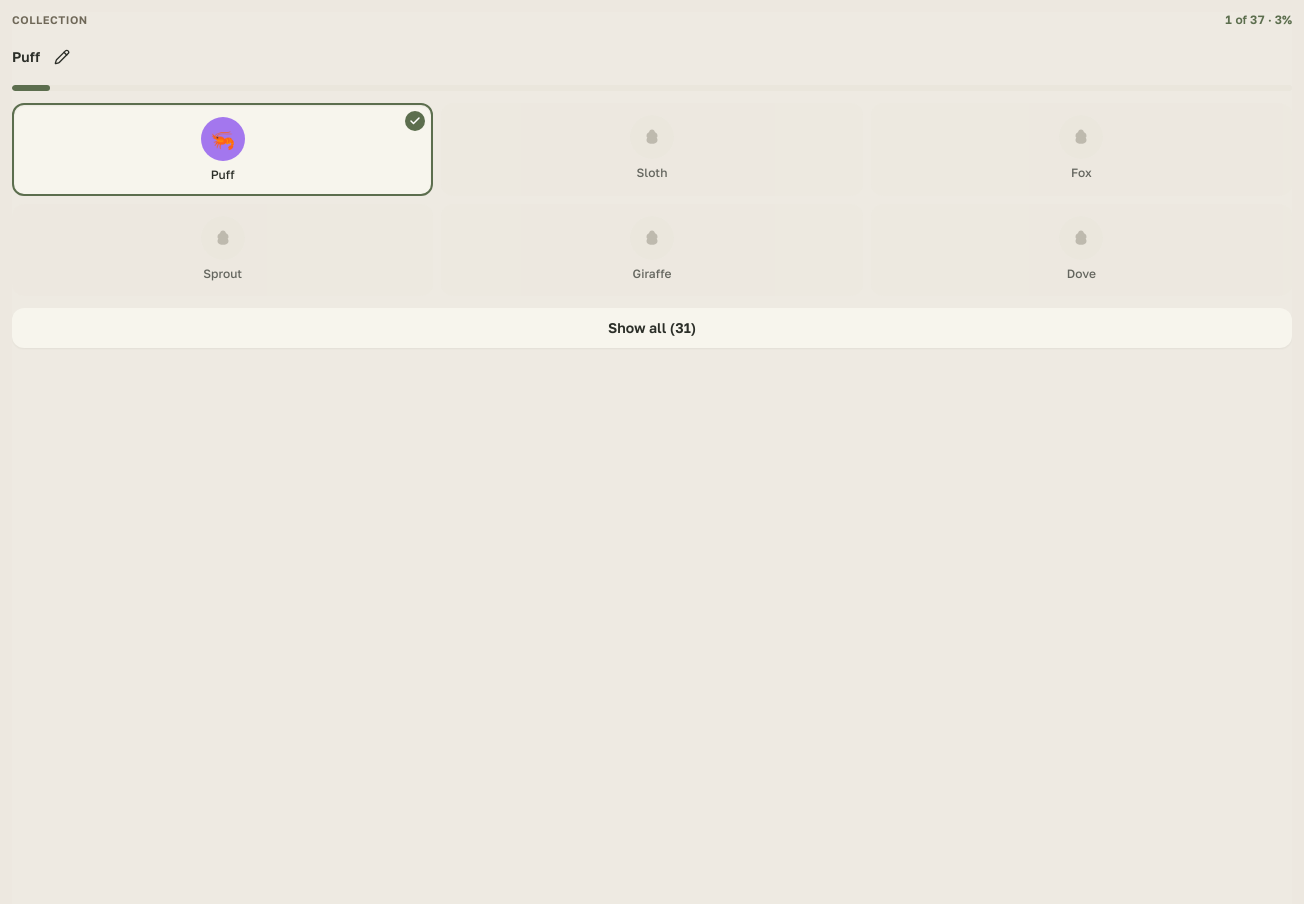
Scenario: PetCollection › expands to all pets and hides the 'Show all' button after click
The width and height of the screenshot is (1304, 904).
Click the button "Show all (31)": (652,328) [12, 308, 1292, 348]
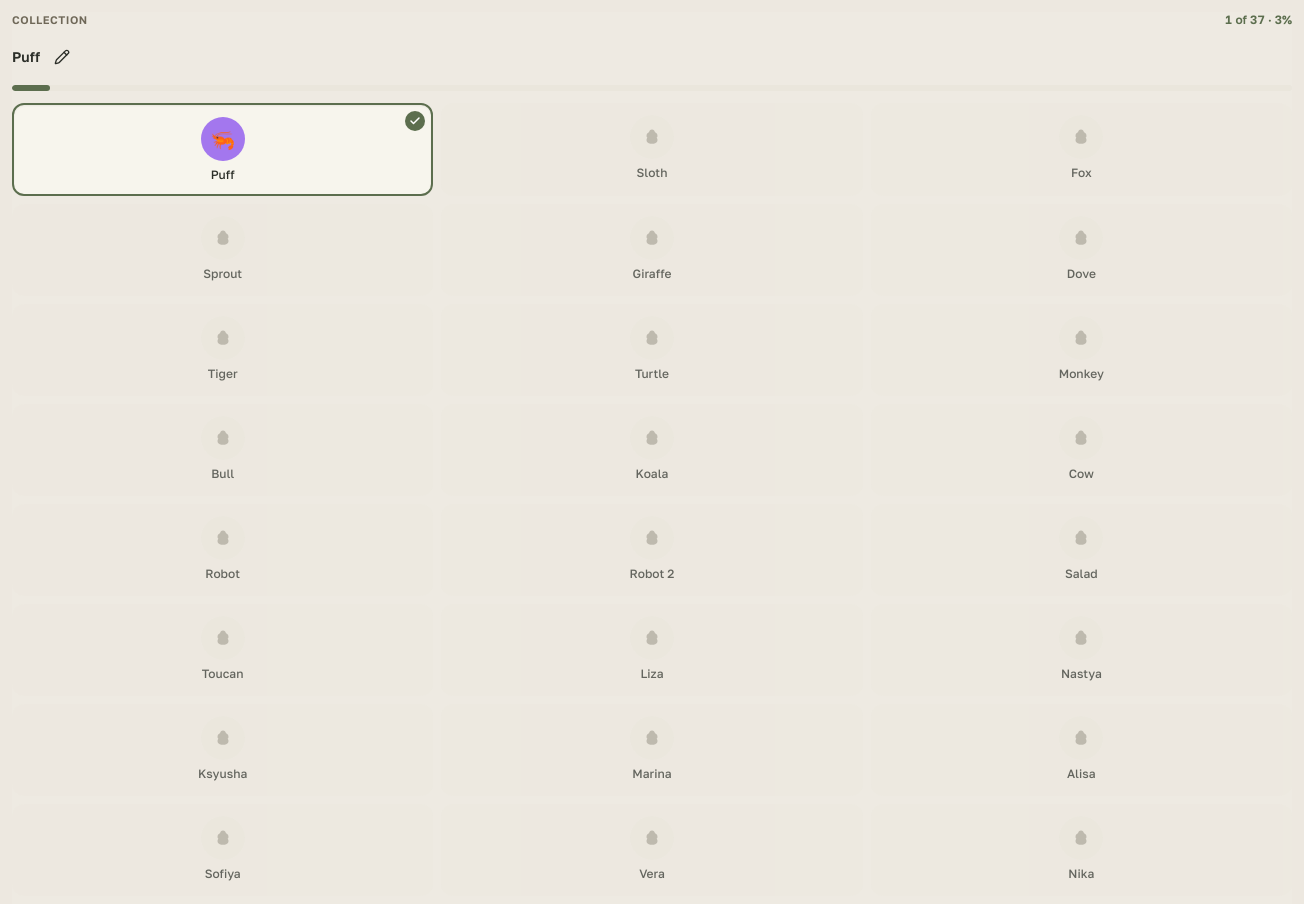
Check: the button "Show all" is gone
